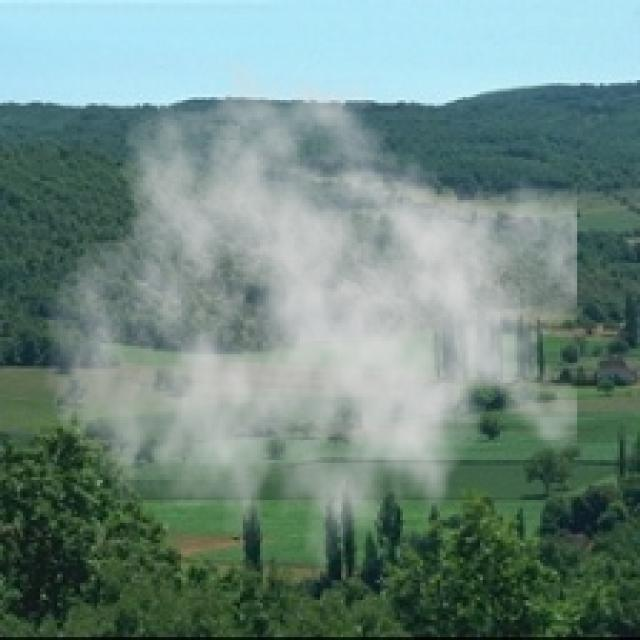Smoke: (42, 54, 578, 597)
